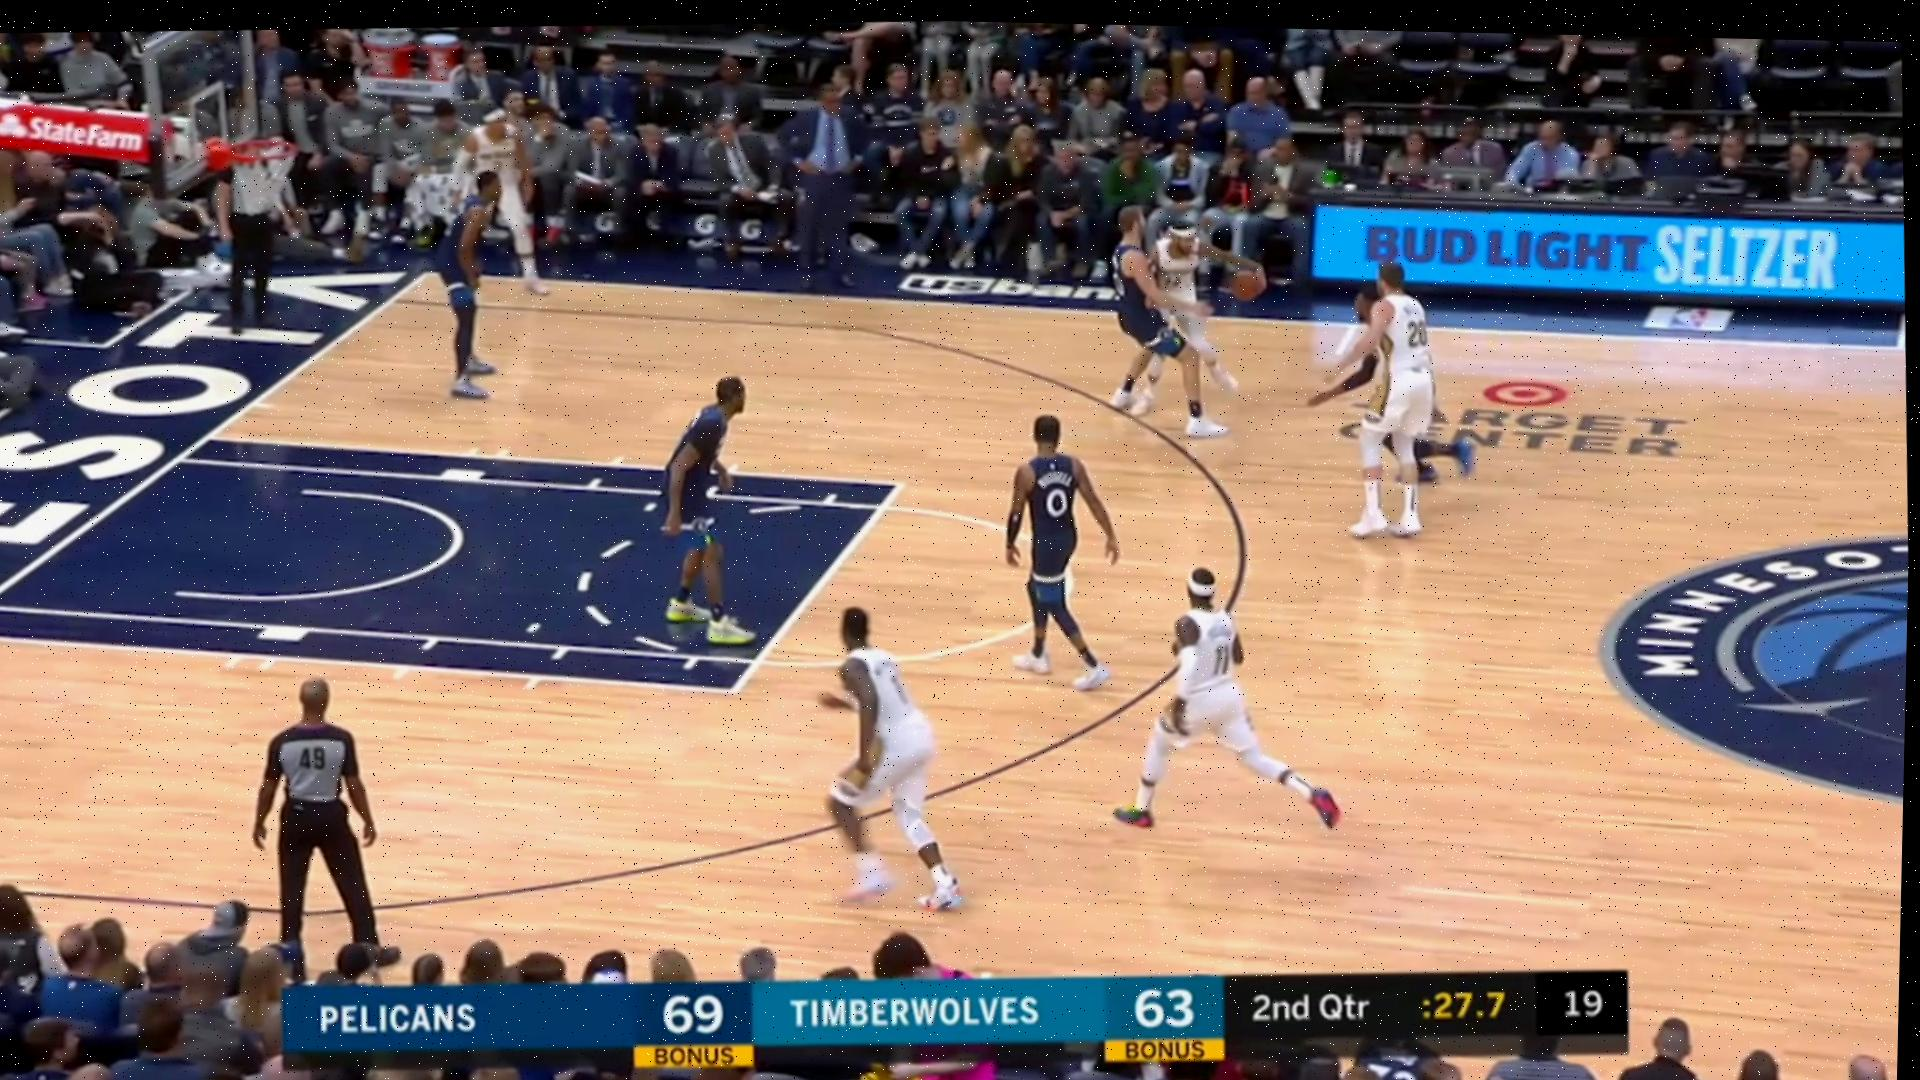foul: (1101, 200, 1244, 435)
